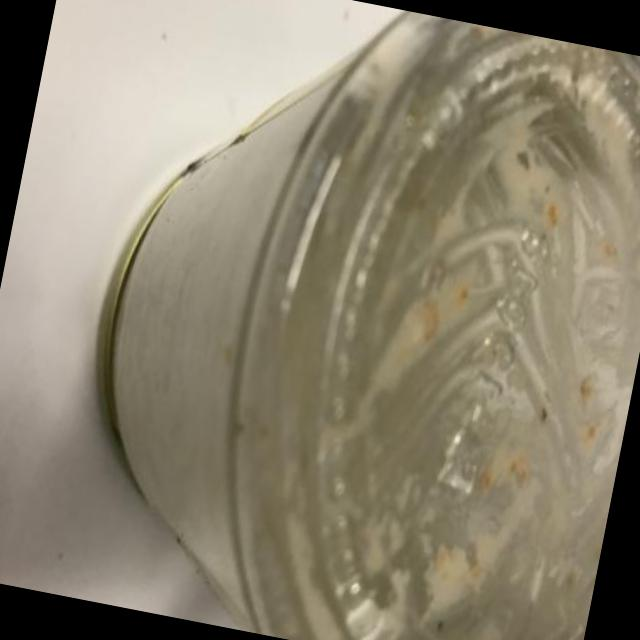chai_thuy_tinh: (92, 10, 640, 640)
